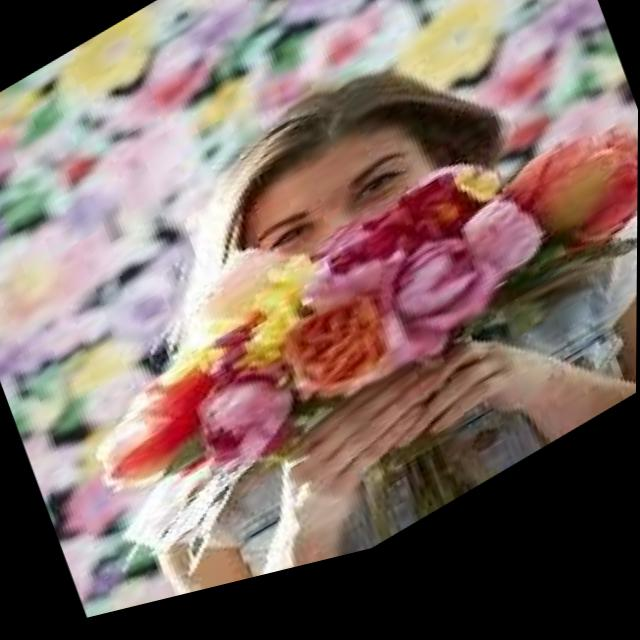Flower: (74, 324, 270, 522), (351, 223, 510, 407), (169, 221, 329, 394), (311, 177, 479, 325), (265, 285, 408, 449), (507, 139, 638, 303), (181, 367, 299, 485)
